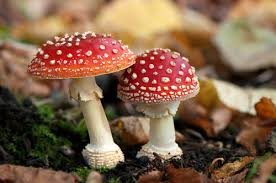Amanita muscaria: (18, 25, 138, 168), (116, 43, 204, 162)
